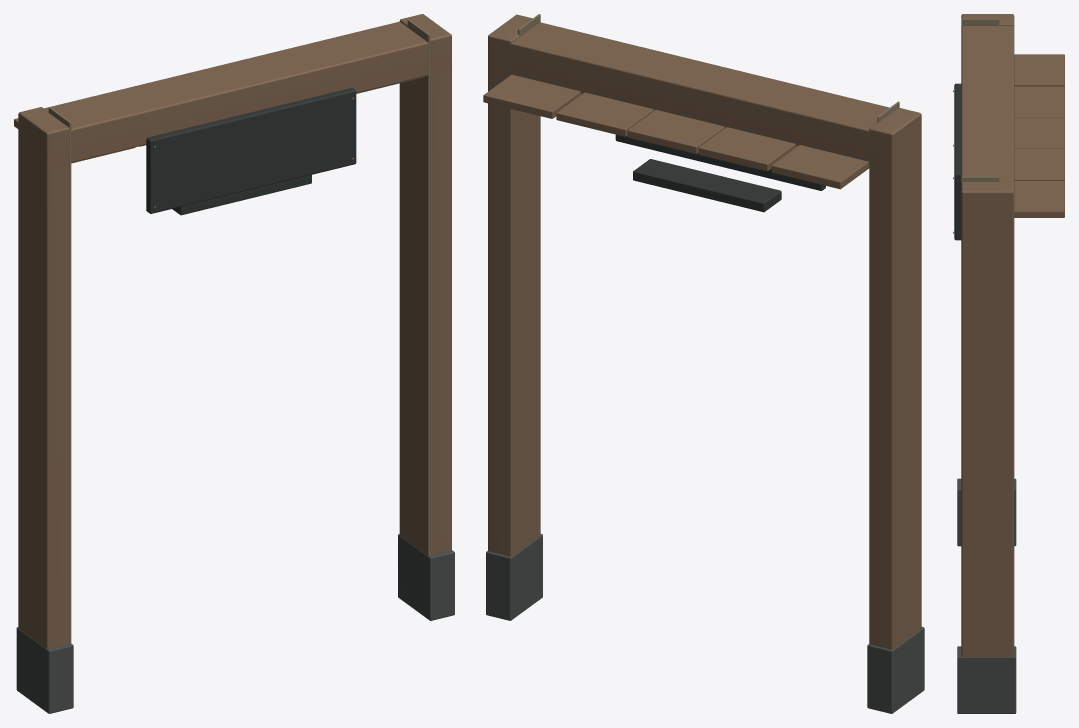
Rendered from entry-portal.glb.
3 renders of one model, left to right at view 1: azimuth 30°, elevation 25°; view 2: azimuth 150°, elevation 25°; view 3: azimuth 270°, elevation 25°, orthographic. The views are drawn at different scales.
Parts seen in each view (by area): view 1: Entry | smoked walnut, Entry | blackened steel, Entry | honed basalt, Entry | patinated bronze; view 2: Entry | smoked walnut, Entry | honed basalt, Entry | blackened steel, Entry | patinated bronze; view 3: Entry | smoked walnut, Entry | honed basalt, Entry | blackened steel, Entry | patinated bronze.
Boxes of the visible parts, box(x1,y1,x2,y2) form: Entry | smoked walnut: box(14, 14, 451, 648); Entry | blackened steel: box(146, 88, 356, 215); Entry | honed basalt: box(16, 534, 454, 713); Entry | patinated bronze: box(48, 19, 430, 643); Entry | smoked walnut: box(483, 14, 921, 649); Entry | honed basalt: box(486, 534, 924, 713); Entry | blackened steel: box(615, 134, 825, 212); Entry | patinated bronze: box(518, 14, 899, 535); Entry | smoked walnut: box(961, 14, 1064, 656); Entry | honed basalt: box(957, 478, 1016, 713); Entry | blackened steel: box(954, 83, 961, 240); Entry | patinated bronze: box(953, 18, 999, 233).
Bounding box in the file's own units: 2 × 2.75 × 0.529.
